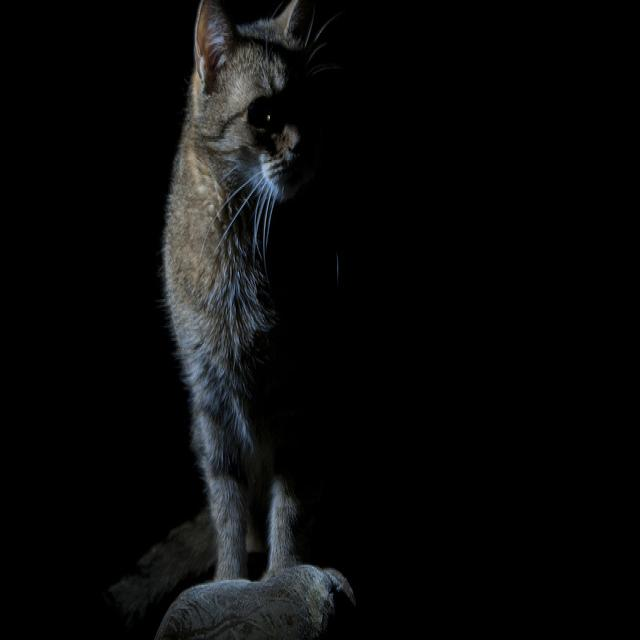Cat: (158, 0, 405, 640)
